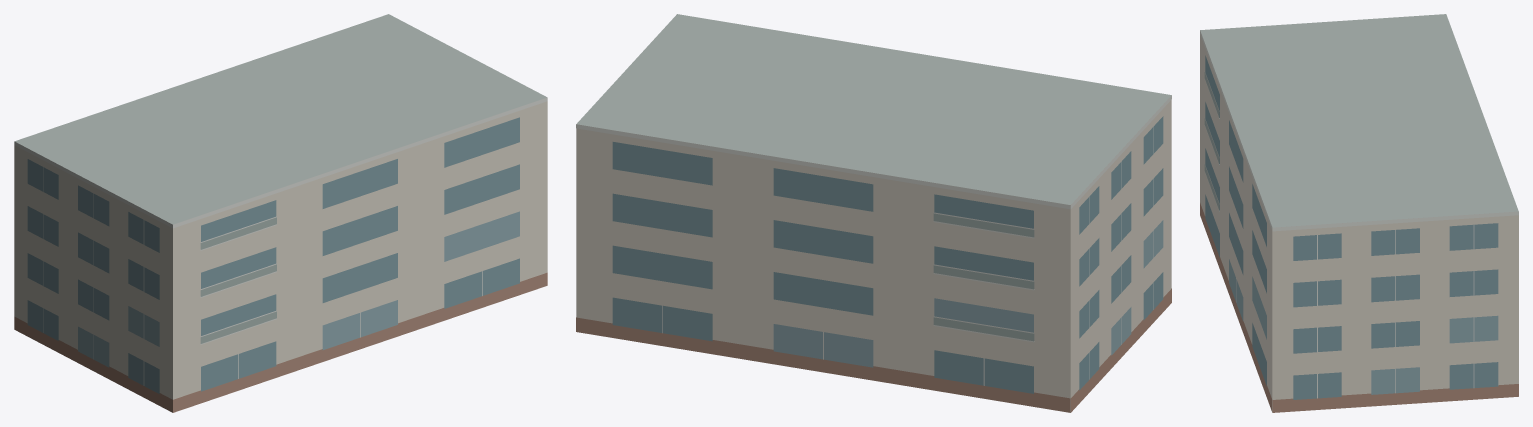
The model's file is residential-709c102d-97af-4fbe-8051-beeab62a8043.glb.
3 renders of one model, left to right at view 1: azimuth 30°, elevation 25°; view 2: azimuth 150°, elevation 25°; view 3: azimuth 270°, elevation 25°, orthographic. The views are drawn at different scales.
Visible parts, largest first — view 1: residential-709c102d-97af-4fbe-8051-beeab62a8043.tmp; view 2: residential-709c102d-97af-4fbe-8051-beeab62a8043.tmp; view 3: residential-709c102d-97af-4fbe-8051-beeab62a8043.tmp.
Boxes of the visible parts, x1,y1,x2,y2 form: residential-709c102d-97af-4fbe-8051-beeab62a8043.tmp: [14, 14, 547, 412]; residential-709c102d-97af-4fbe-8051-beeab62a8043.tmp: [576, 14, 1171, 412]; residential-709c102d-97af-4fbe-8051-beeab62a8043.tmp: [1200, 14, 1518, 412].
Bounding box in the file's own units: 30.19 × 12.2 × 19.04.
